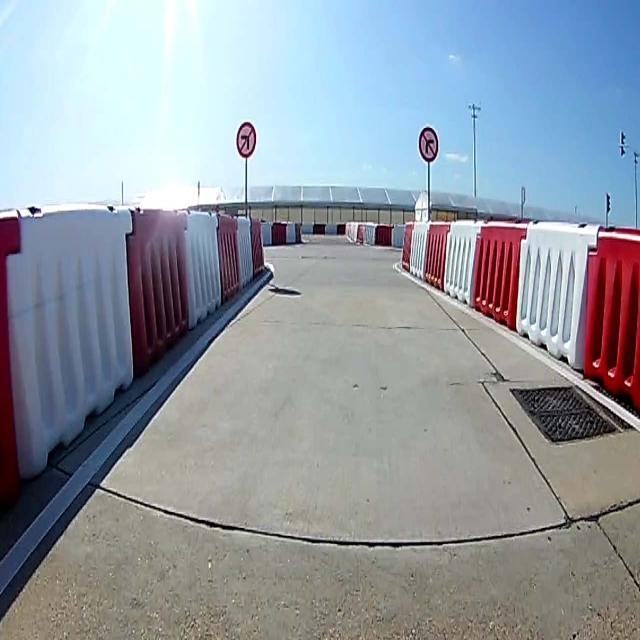sagadonulmez: (418, 126, 440, 166)
soladonulmez: (236, 121, 256, 156)
